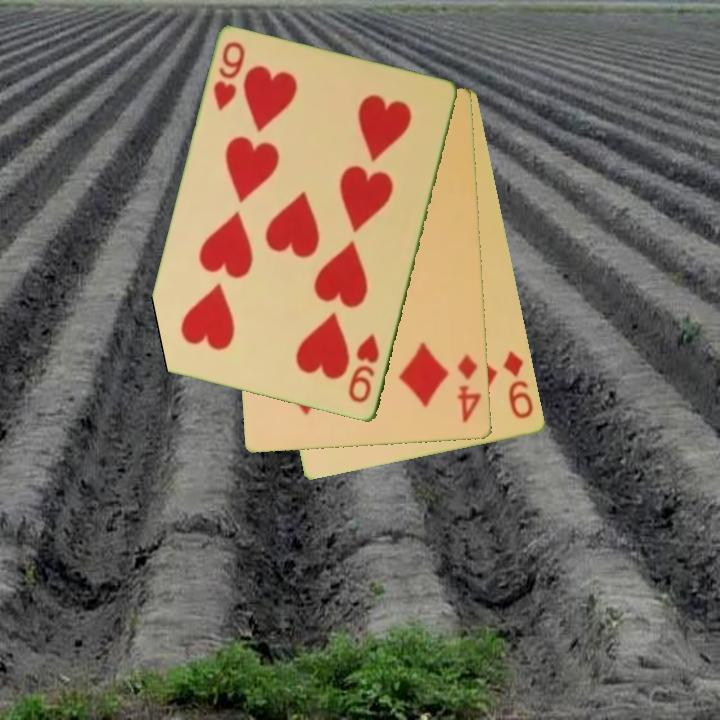4d: (454, 350, 485, 426)
9d: (500, 348, 537, 422)
9h: (345, 330, 383, 407), (210, 39, 248, 114)
